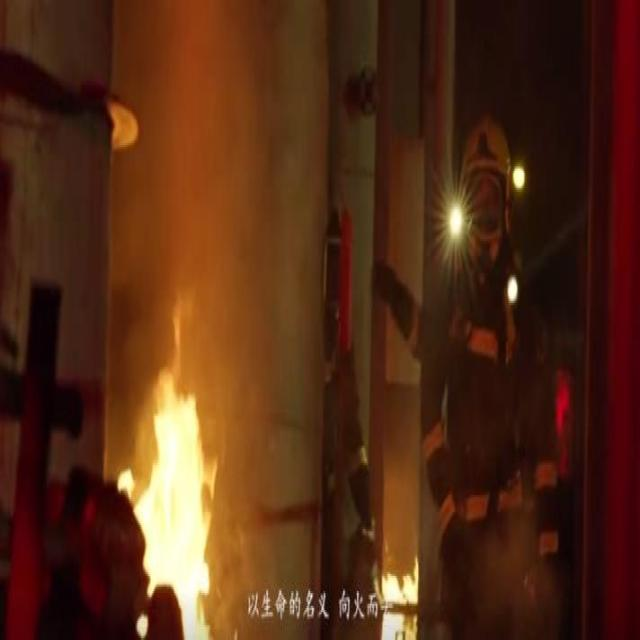fire: (120, 310, 244, 640)
